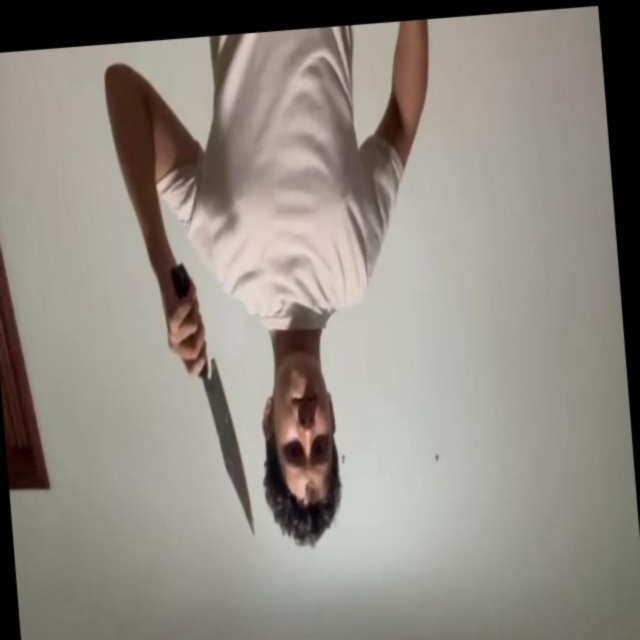Sharp-Object: (198, 360, 257, 540)
